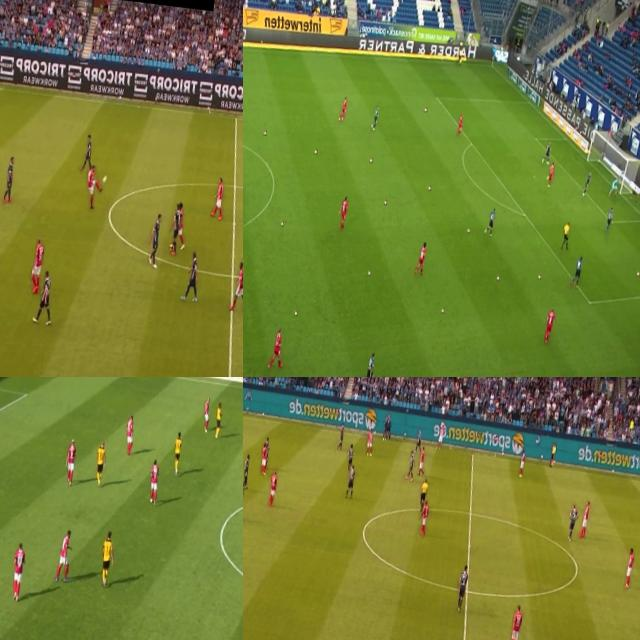ball: (100, 170, 108, 188), (440, 416, 446, 426), (536, 274, 542, 280), (312, 148, 318, 154), (423, 105, 428, 112), (440, 306, 444, 314), (466, 226, 470, 234), (495, 274, 500, 280), (427, 183, 431, 190), (293, 308, 297, 314), (368, 157, 372, 163), (262, 130, 266, 136), (636, 270, 640, 276), (382, 199, 386, 204), (280, 219, 282, 227), (555, 375, 560, 377), (367, 270, 370, 272)
player: (178, 244, 203, 306), (52, 520, 74, 586), (32, 266, 55, 326), (61, 432, 81, 489), (28, 234, 47, 293), (0, 152, 18, 207), (10, 540, 28, 595), (619, 543, 637, 594), (148, 209, 164, 266), (97, 530, 114, 583), (172, 200, 188, 255), (229, 256, 243, 317), (84, 164, 102, 211), (167, 203, 183, 255), (92, 440, 108, 492), (452, 562, 468, 614), (267, 324, 283, 372), (506, 602, 526, 640), (145, 456, 161, 502), (169, 432, 186, 472), (210, 398, 226, 438), (576, 498, 592, 538), (210, 173, 224, 218), (565, 498, 580, 540), (122, 414, 135, 454), (82, 131, 95, 168), (414, 240, 428, 274), (337, 195, 349, 232), (266, 468, 278, 505), (515, 447, 529, 478), (418, 498, 430, 533), (404, 448, 418, 478), (243, 452, 253, 494), (359, 353, 376, 377), (414, 442, 426, 476), (257, 442, 269, 476), (571, 255, 584, 286), (542, 308, 555, 339), (200, 396, 211, 432), (344, 466, 355, 500), (580, 169, 592, 199), (260, 434, 270, 469), (484, 205, 496, 234), (413, 426, 424, 454), (364, 426, 374, 455), (603, 206, 613, 232), (336, 422, 346, 448), (338, 95, 347, 122), (346, 442, 354, 472), (545, 161, 554, 187), (542, 141, 552, 164), (370, 104, 379, 129), (608, 176, 618, 197), (456, 113, 464, 134)
